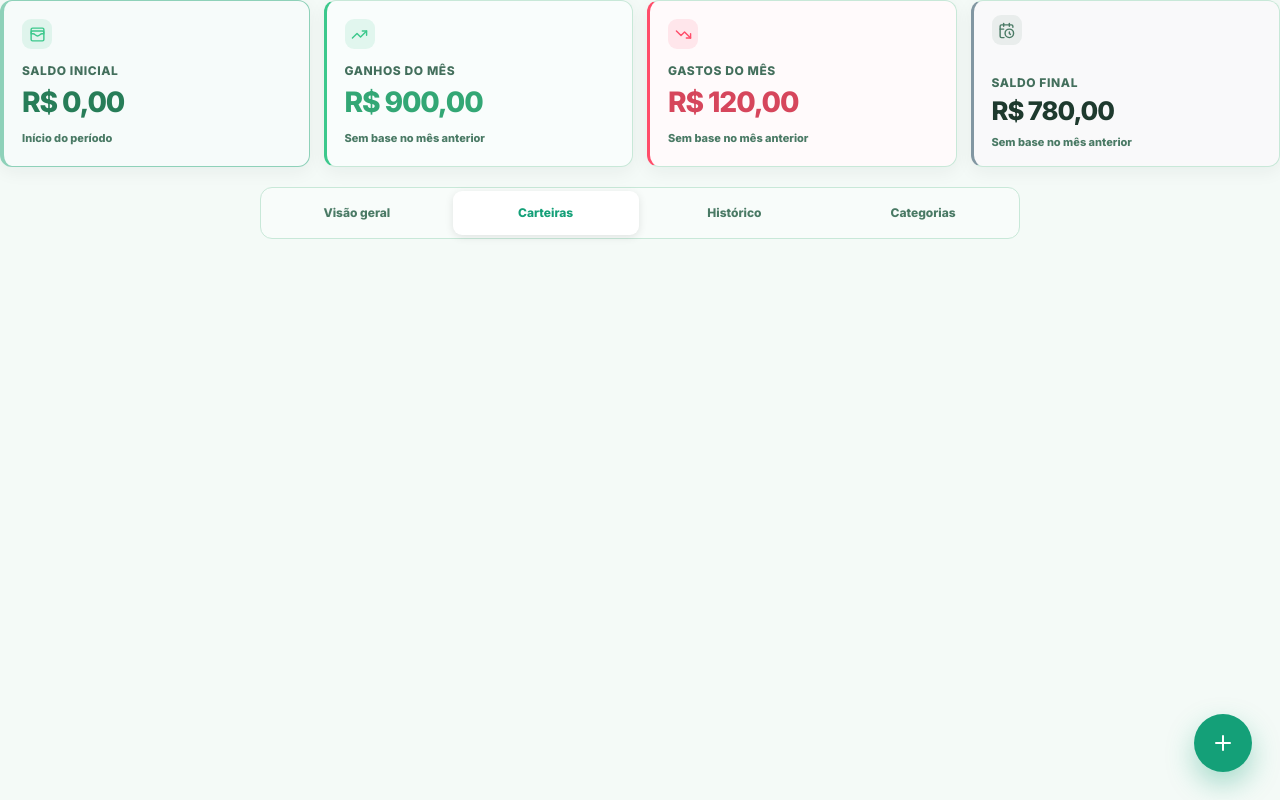
it: dashboard flow cards › opens income and expense details grouped by day
Click the button with aria-label "Ver gastos por dia" at (722, 70), box [647,0,956,167]
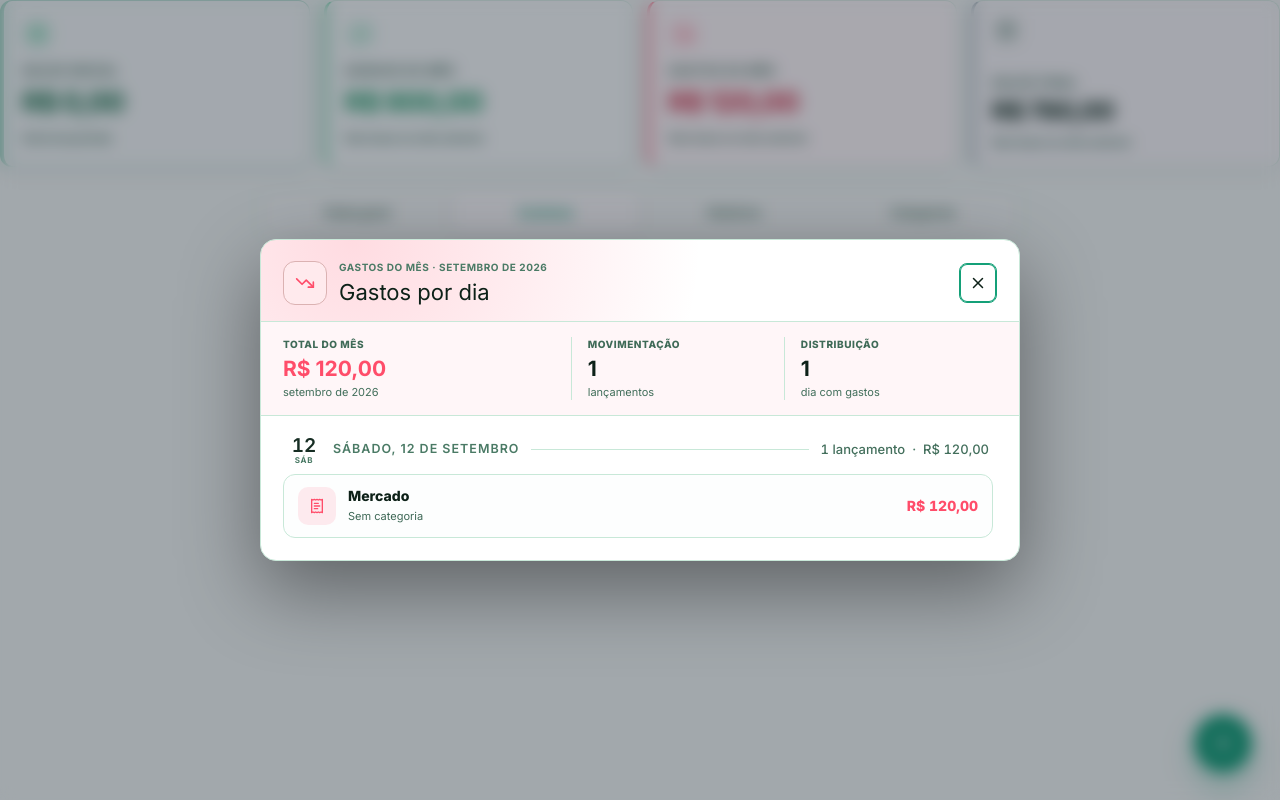
Expected: the text "Salário" is not shown
Now the text "Mercado" is shown, box [348,487,409,504]
Click the button named "Fechar" at (978, 283), box [959,263,997,303]
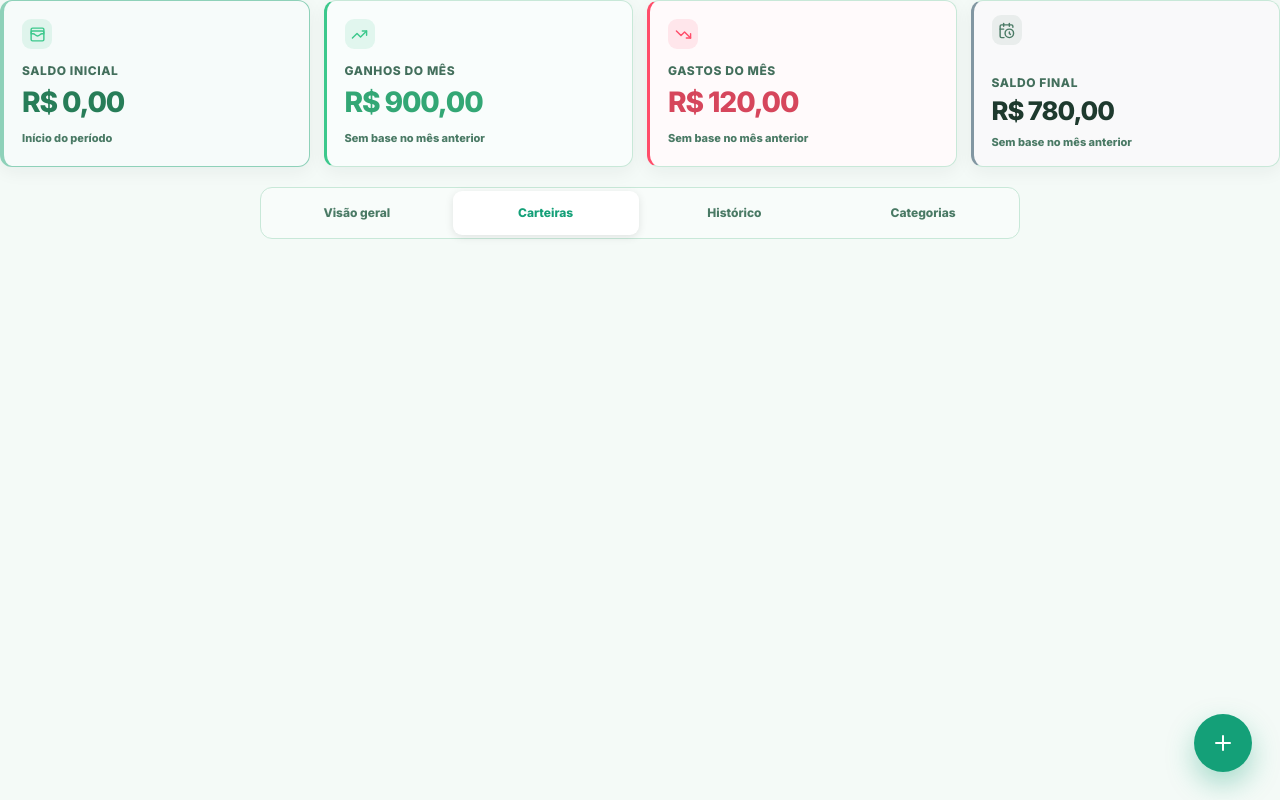
Click the button with aria-label "Ver ganhos por dia" at (478, 84), box [324,0,633,167]
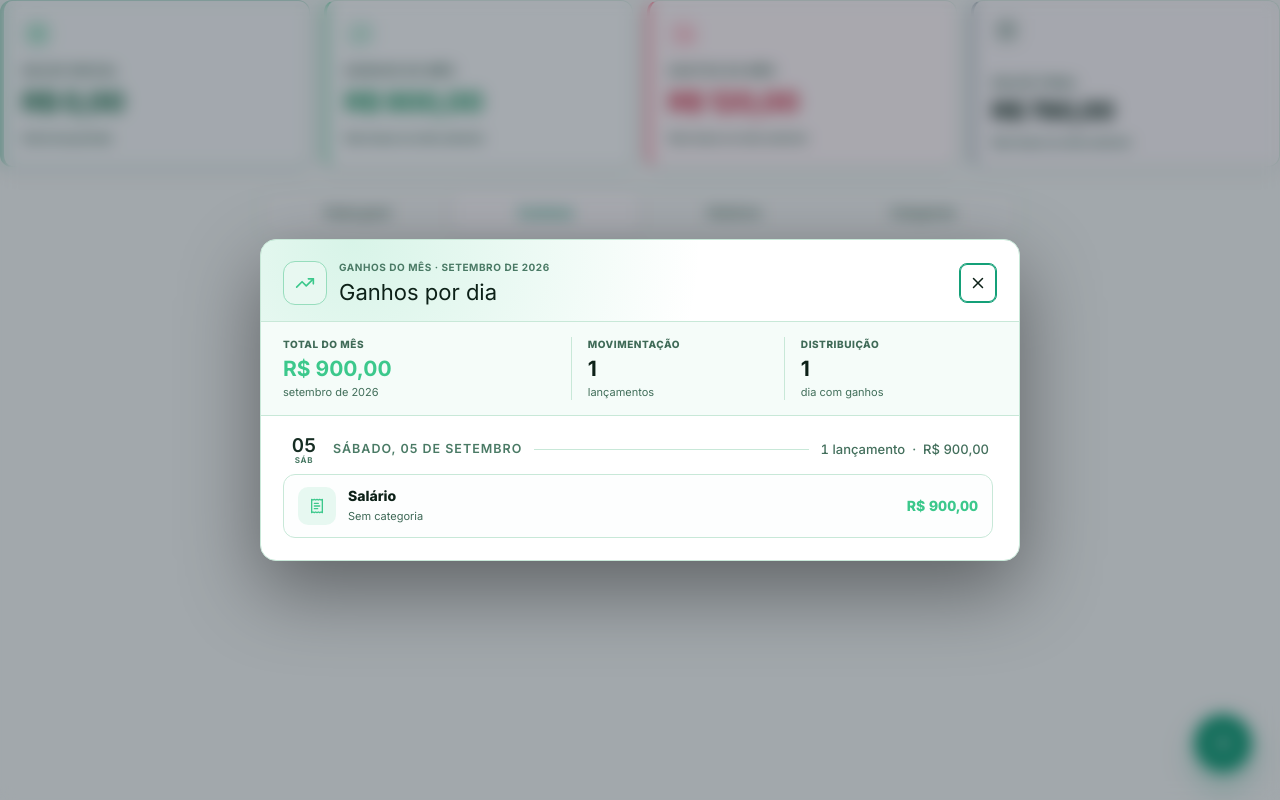
Expected: the text "Mercado" is not shown
Now the heading "Ganhos por dia" is shown, box [339,279,497,305]
Now the text "Salário" is shown, box [348,487,396,504]
